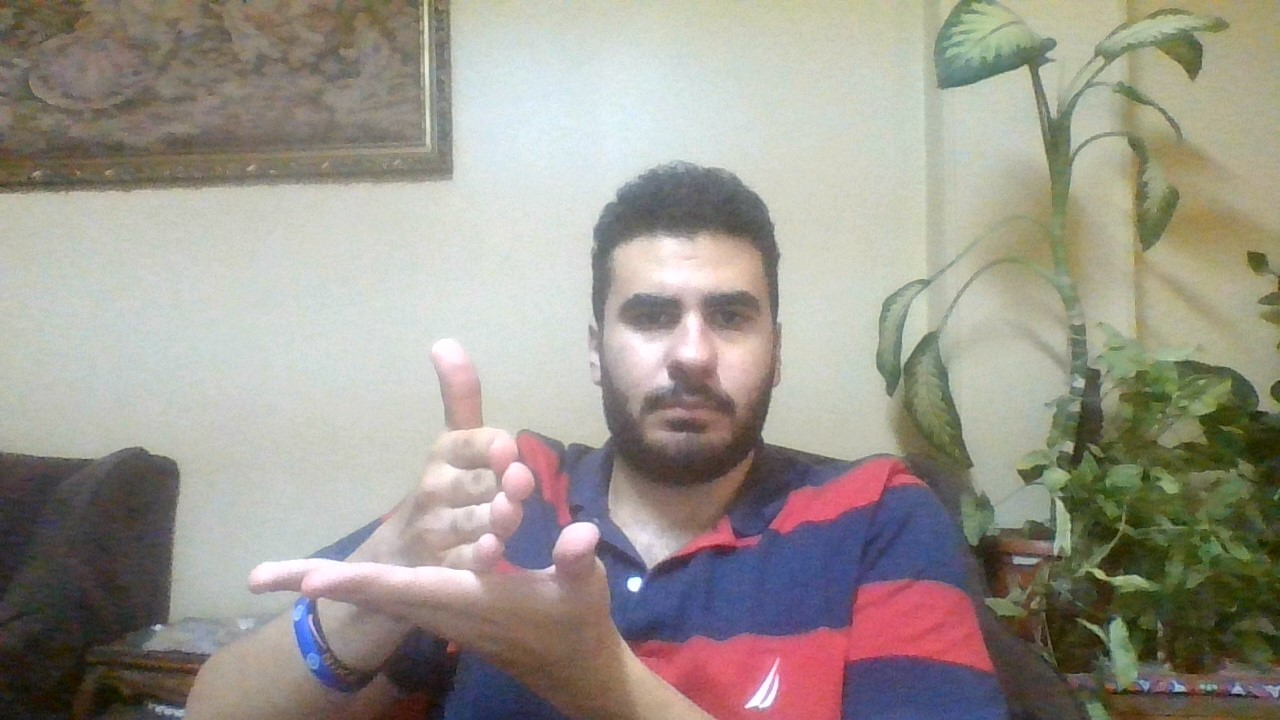stop: (231, 330, 632, 658)
